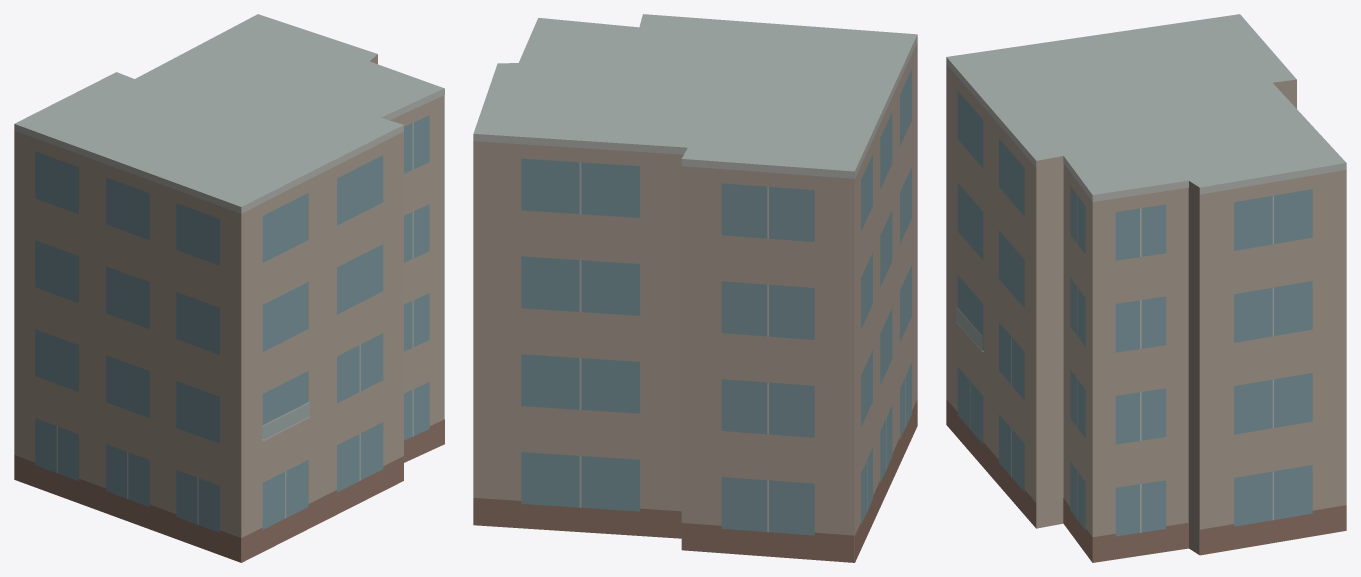
The model's file is survey-upis-32853001.glb.
The picture shows the model from 3 angles, left to right: view 1: azimuth 30°, elevation 25°; view 2: azimuth 150°, elevation 25°; view 3: azimuth 270°, elevation 25°; orthographic projection. The views are drawn at different scales.
Parts seen in each view (by area): view 1: survey-upis-32853001.tmp; view 2: survey-upis-32853001.tmp; view 3: survey-upis-32853001.tmp.
Boxes of the visible parts, x1,y1,x2,y2 form: survey-upis-32853001.tmp: (14, 14, 444, 562); survey-upis-32853001.tmp: (473, 14, 917, 562); survey-upis-32853001.tmp: (946, 14, 1346, 562).
Bounding box in the file's own units: 13.74 × 13 × 12.84.
